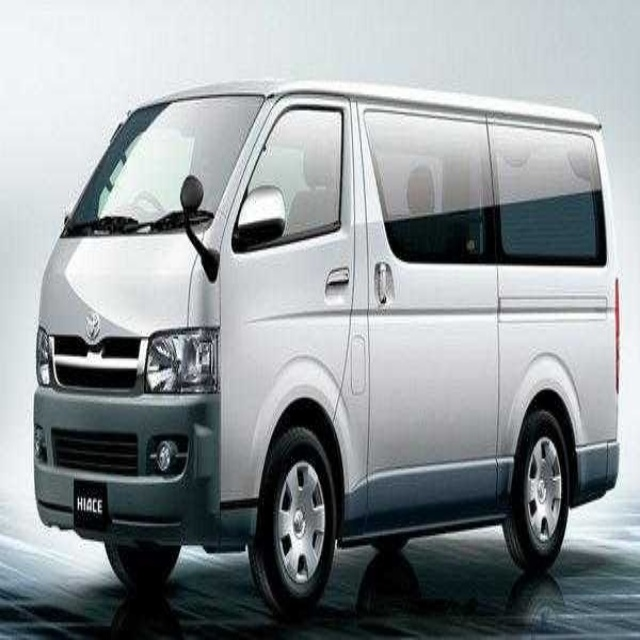Van: (33, 81, 620, 616)
